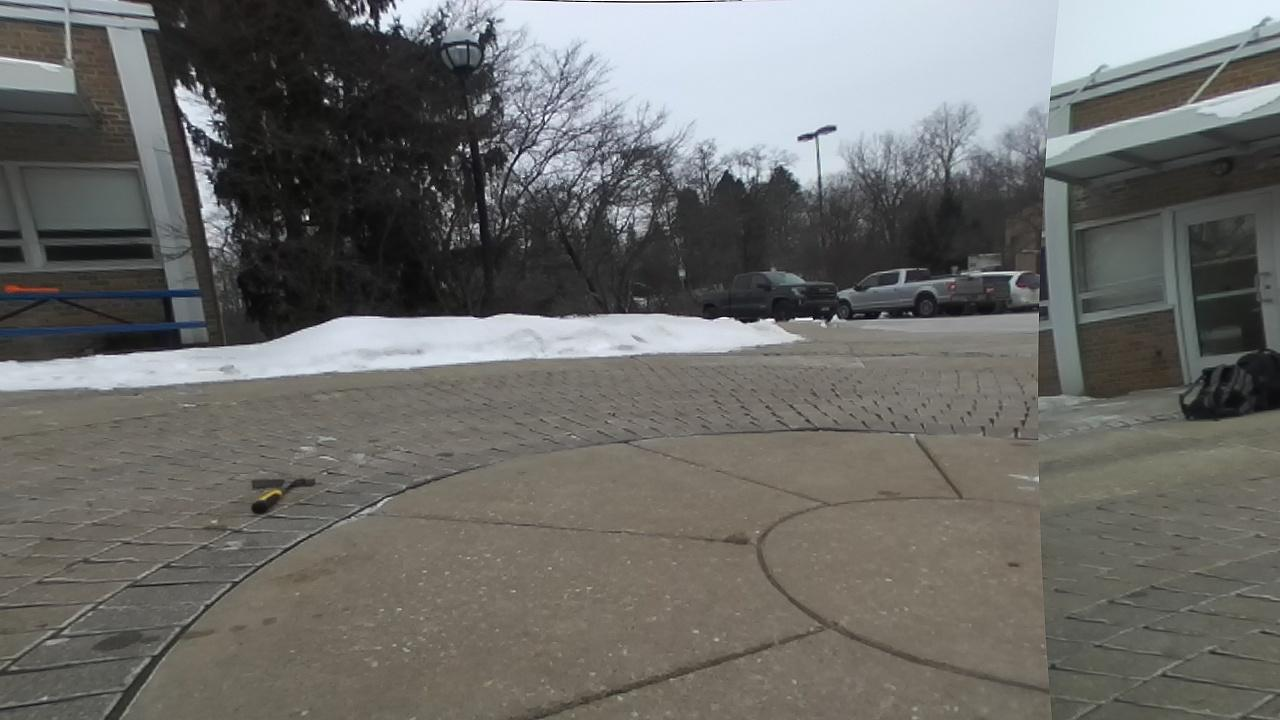pick: (250, 477, 315, 514)
